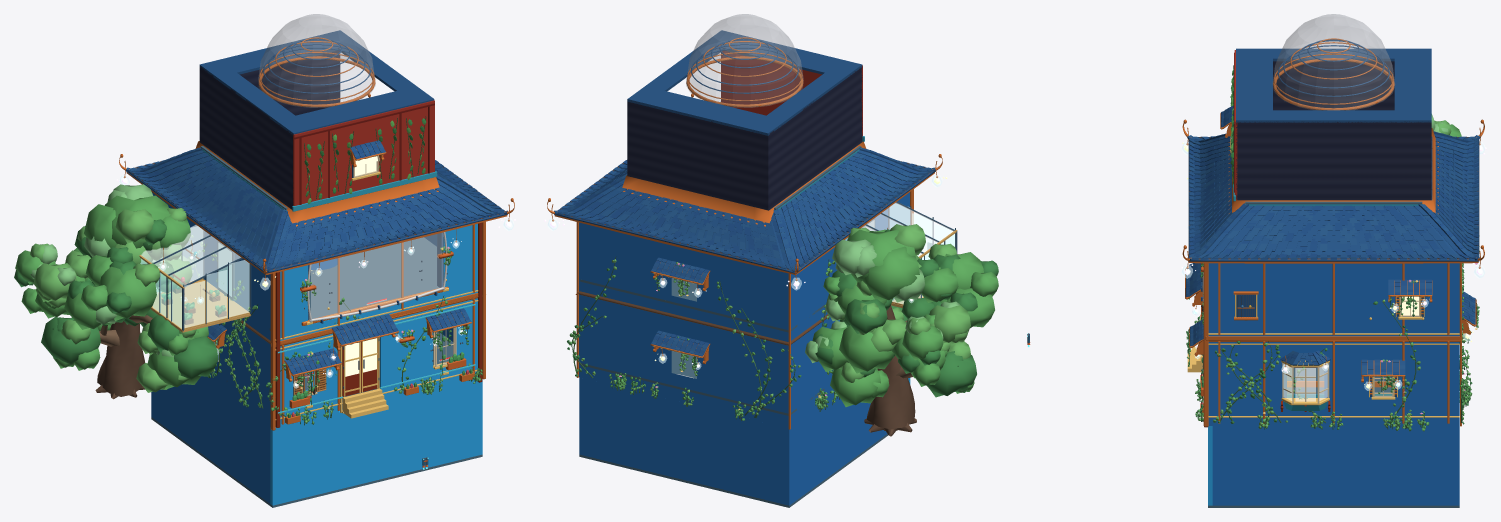
The model's file is exterior-home-CMK5o2Ku.glb.
3 views of the same model, side by side, from view 1: azimuth 30°, elevation 25°; view 2: azimuth 150°, elevation 25°; view 3: azimuth 270°, elevation 25° (orthographic). The views are drawn at different scales.
Visible parts, largest first — view 1: TREE_Left_Foliage, EXT_RoofHip_Shingles, INT_Foundation_Front, WallFront, ObsDome, ObsFront, INT_Foundation_Left, CUTAWAY_UpperOpening_Glass, ObsLeft, WallLeft, INT_Slab_Kitchen, EXT_RoofHip_Body (+31 smaller); view 2: WallBack, TREE_Left_Foliage, INT_Foundation_Back, EXT_RoofHip_Shingles, ObsBack, ObsDome, ObsLeft, INT_Foundation_Left, WallLeft, EXT_RoofHip_Body, ObsFront, EXT_Vegetation_Detail (+17 smaller); view 3: WallRight, EXT_RoofHip_Shingles, INT_Foundation_Right, ObsRight, ObsDome, EXT_RoofHip_Body, ObsLeft, EXT_Vegetation_Detail, EXT_ObservatoryRoof_Back, EXT_ObservatoryRoof_Front, EXT_ObservatoryRoof_Right, EXT_ObservatoryRoof_Left (+14 smaller).
Boxes of the visible parts, bbox=[...] form: TREE_Left_Foliage: bbox=[14, 184, 218, 392]; EXT_RoofHip_Shingles: bbox=[129, 150, 504, 270]; INT_Foundation_Front: bbox=[270, 379, 482, 505]; WallFront: bbox=[275, 224, 477, 428]; ObsDome: bbox=[258, 14, 375, 107]; ObsFront: bbox=[293, 100, 434, 205]; INT_Foundation_Left: bbox=[153, 376, 270, 503]; CUTAWAY_UpperOpening_Glass: bbox=[311, 233, 443, 318]; ObsLeft: bbox=[199, 66, 292, 209]; WallLeft: bbox=[152, 192, 270, 426]; INT_Slab_Kitchen: bbox=[269, 237, 439, 330]; EXT_RoofHip_Body: bbox=[126, 153, 507, 273]; WallBack: bbox=[580, 223, 788, 428]; TREE_Left_Foliage: bbox=[805, 224, 998, 406]; INT_Foundation_Back: bbox=[579, 377, 791, 505]; EXT_RoofHip_Shingles: bbox=[557, 150, 932, 270]; ObsBack: bbox=[627, 101, 768, 210]; ObsDome: bbox=[686, 14, 803, 107]; ObsLeft: bbox=[768, 67, 862, 210]; INT_Foundation_Left: bbox=[791, 378, 908, 503]; WallLeft: bbox=[791, 192, 909, 426]; EXT_RoofHip_Body: bbox=[554, 152, 935, 273]; ObsFront: bbox=[721, 50, 862, 136]; EXT_Vegetation_Detail: bbox=[567, 257, 839, 420]; WallRight: bbox=[1208, 263, 1459, 425]; EXT_RoofHip_Shingles: bbox=[1189, 134, 1478, 259]; INT_Foundation_Right: bbox=[1212, 426, 1454, 505]; ObsRight: bbox=[1236, 121, 1431, 200]; ObsDome: bbox=[1272, 14, 1394, 109]; EXT_RoofHip_Body: bbox=[1188, 137, 1479, 261]; ObsLeft: bbox=[1273, 61, 1394, 110]; EXT_Vegetation_Detail: bbox=[1186, 246, 1479, 431]; EXT_ObservatoryRoof_Back: bbox=[1394, 48, 1431, 122]; EXT_ObservatoryRoof_Front: bbox=[1236, 48, 1272, 122]; EXT_ObservatoryRoof_Right: bbox=[1273, 110, 1394, 122]; EXT_ObservatoryRoof_Left: bbox=[1273, 48, 1394, 61].
Bounding box in the file's own units: 34.13 × 35.89 × 34.29.
